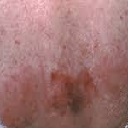Carcinoma: (48, 65, 98, 110)
